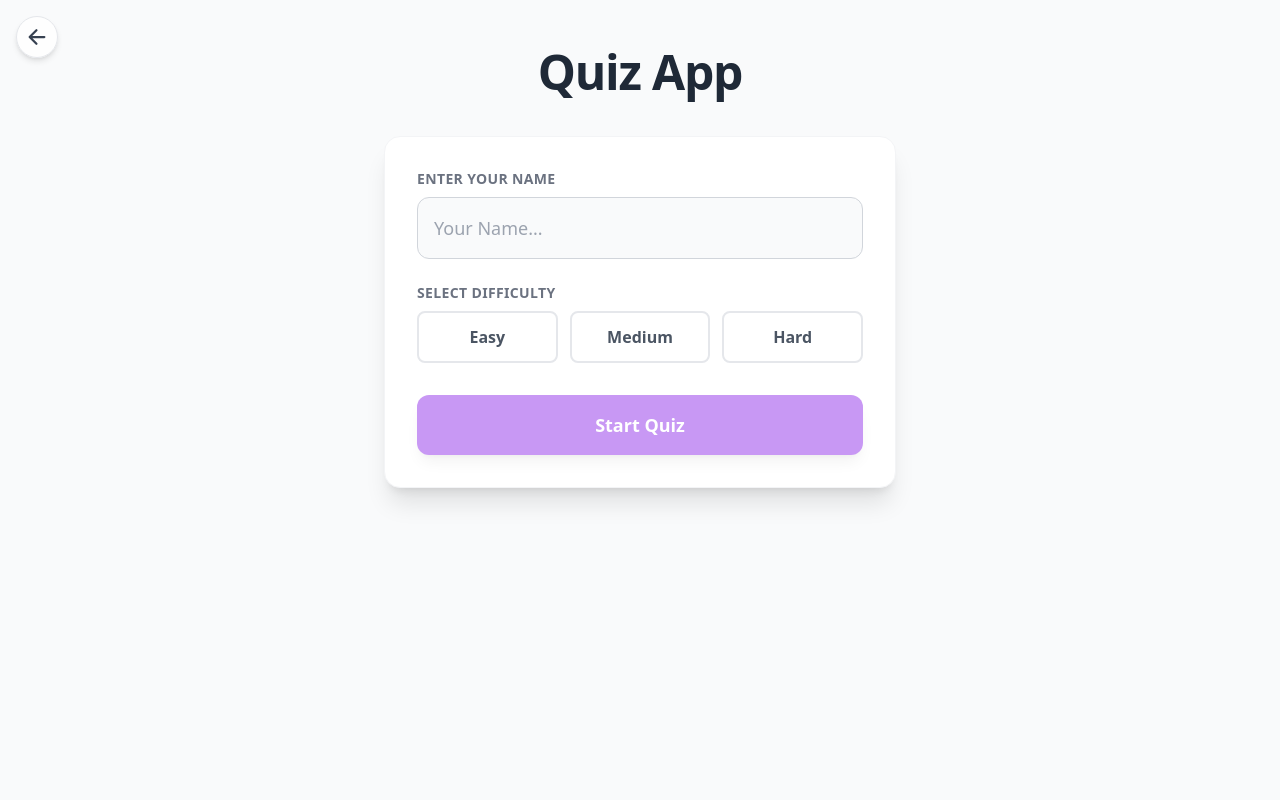
Test: Quiz Component Integration › starts the quiz and displays questions
# Enter Name
Type "TestUser" into the field with placeholder "Your Name..." at coordinates (640, 228), box [417,197,863,259]
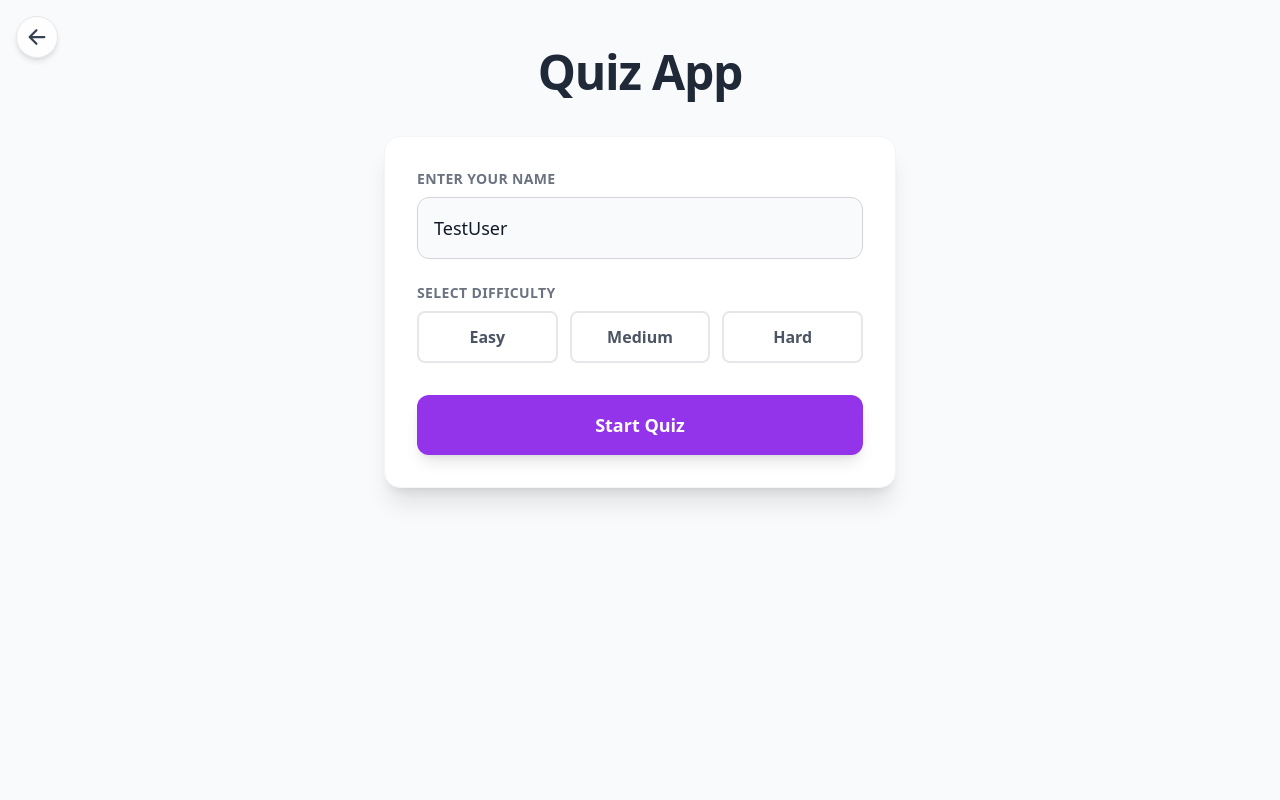
# Click Start
Click the button "Start Quiz" at coordinates (640, 425), box [417,395,863,455]
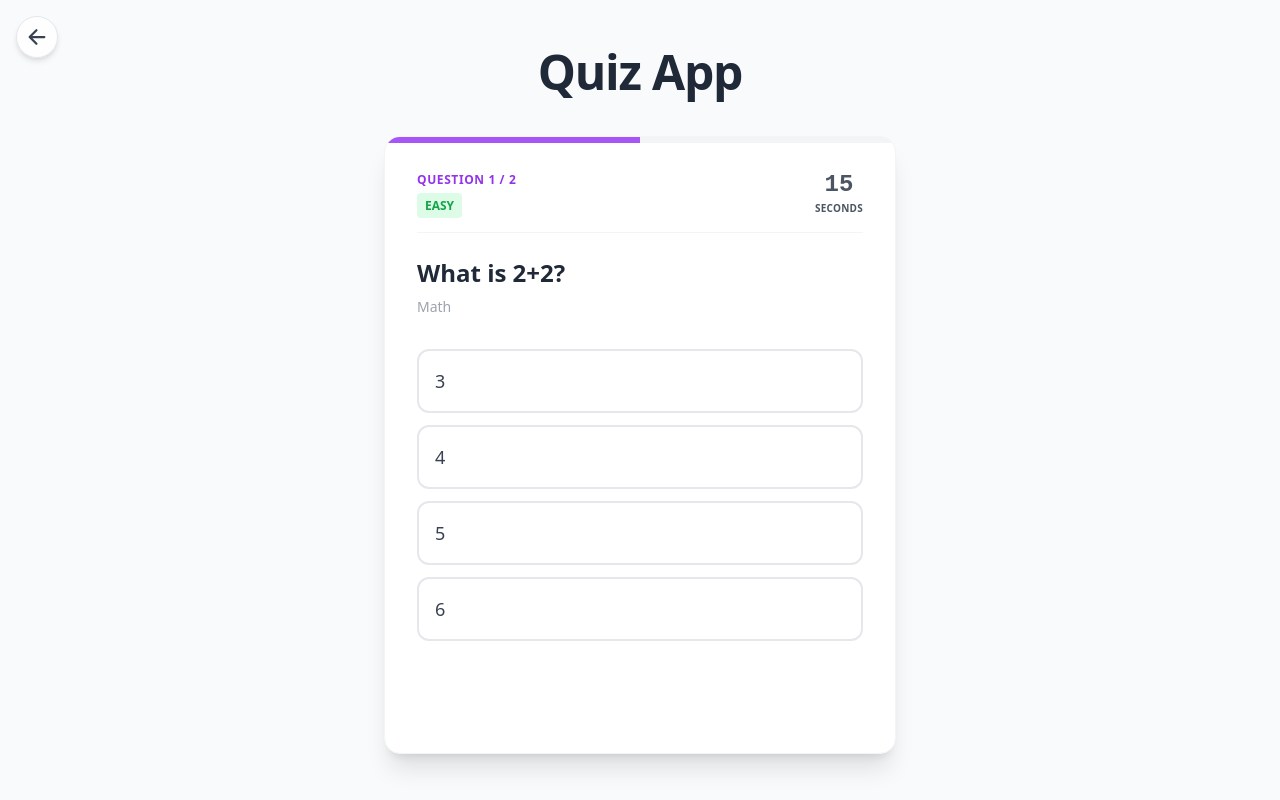
expect the heading "What is 2+2?" is shown: met, box [417,256,565,289]
expect the text "4" is shown: met, box [435,445,445,469]
expect the text "3" is shown: met, box [435,369,445,393]
